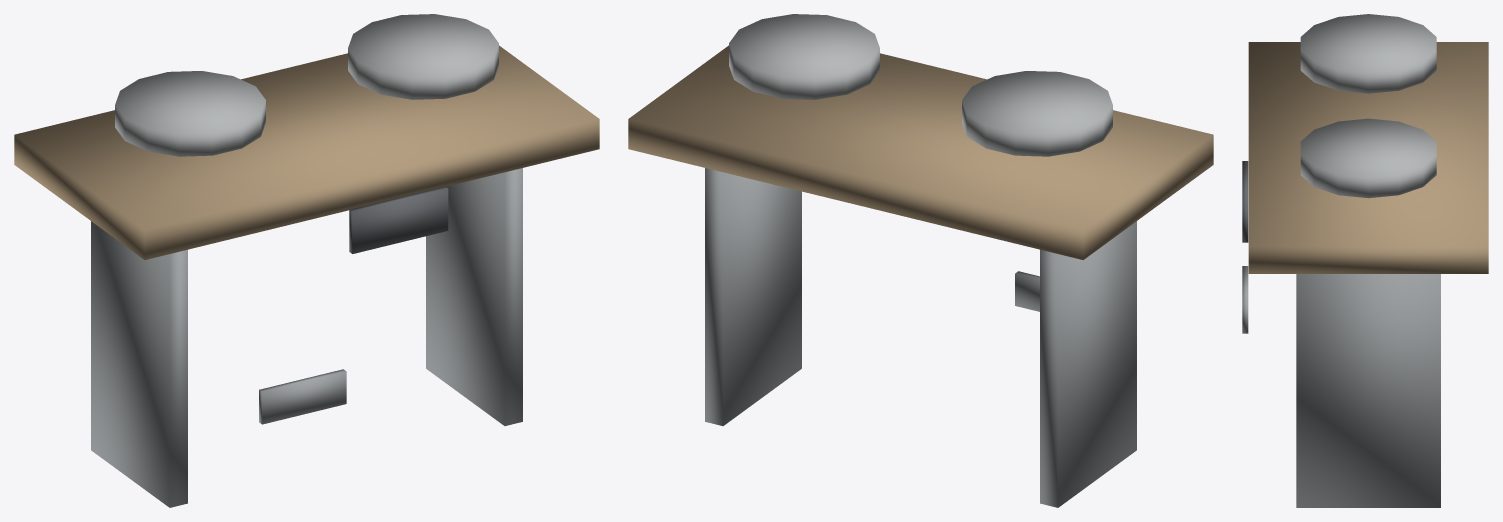
Rendered from projection_rewind_bench__weathered.glb.
3 views of the same model, side by side, from view 1: azimuth 30°, elevation 25°; view 2: azimuth 150°, elevation 25°; view 3: azimuth 270°, elevation 25° (orthographic). The views are drawn at different scales.
Visible parts, largest first — view 1: world; view 2: world; view 3: world.
Part boxes in pixels (<box>): world: <box>14,14,599,507</box>; world: <box>628,14,1213,507</box>; world: <box>1242,14,1488,507</box>.
Bounding box in the file's own units: 1.25 × 0.9504 × 0.6364.
